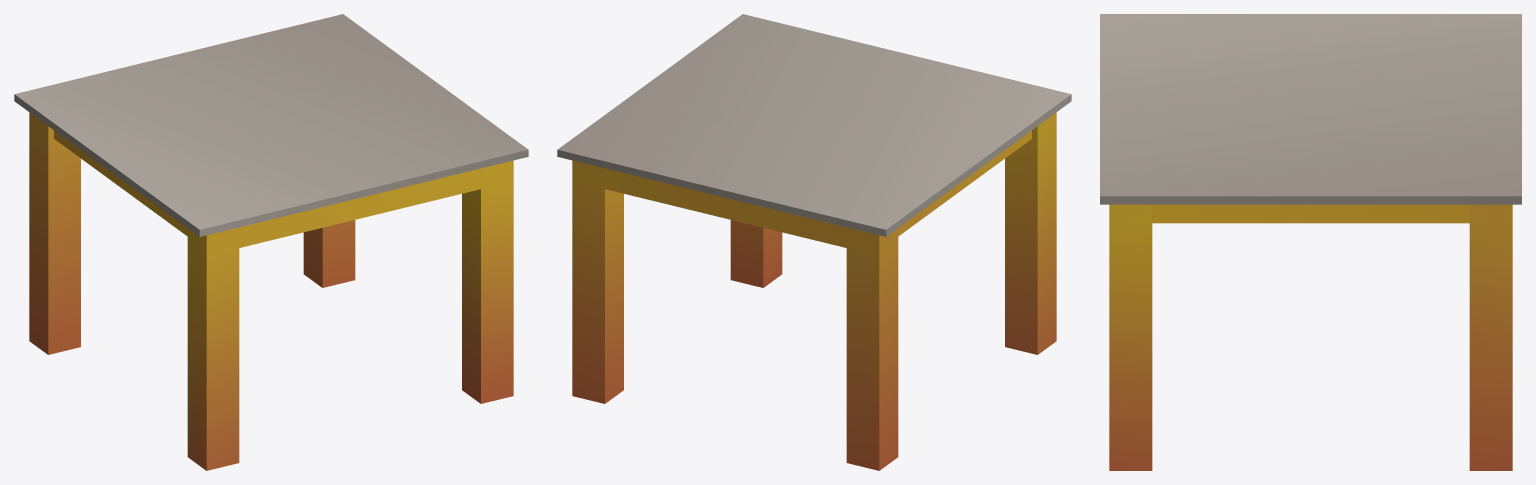
Rendered from Table.fbx.
3 renders of one model, left to right at view 1: azimuth 30°, elevation 25°; view 2: azimuth 150°, elevation 25°; view 3: azimuth 270°, elevation 25°, orthographic. The views are drawn at different scales.
Visible parts, largest first — view 1: Box004; view 2: Box004; view 3: Box004.
Boxes of the visible parts, x1,y1,x2,y2 form: Box004: [14, 14, 528, 470]; Box004: [557, 14, 1071, 470]; Box004: [1100, 14, 1521, 470].
Bounding box in the file's own units: 95.88 × 68.75 × 93.66.
